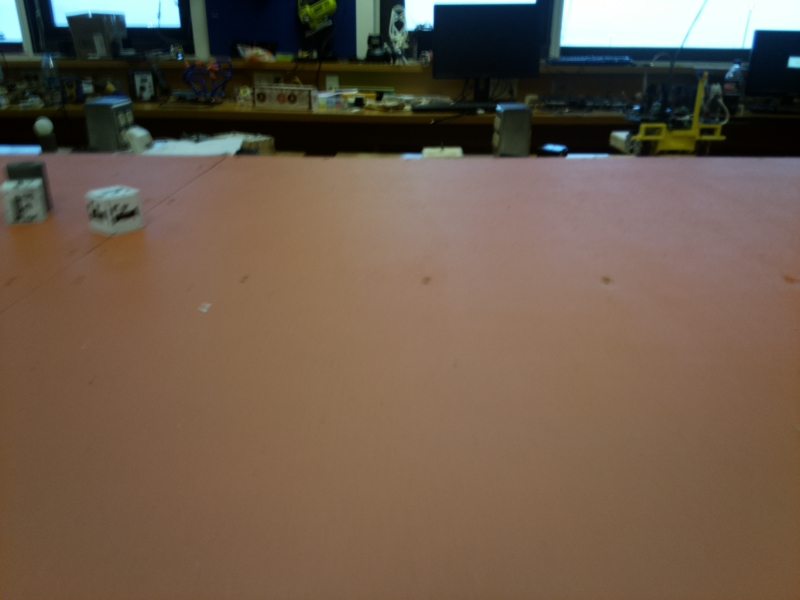blockE: (3, 179, 48, 227)
blockF: (86, 182, 142, 235)
